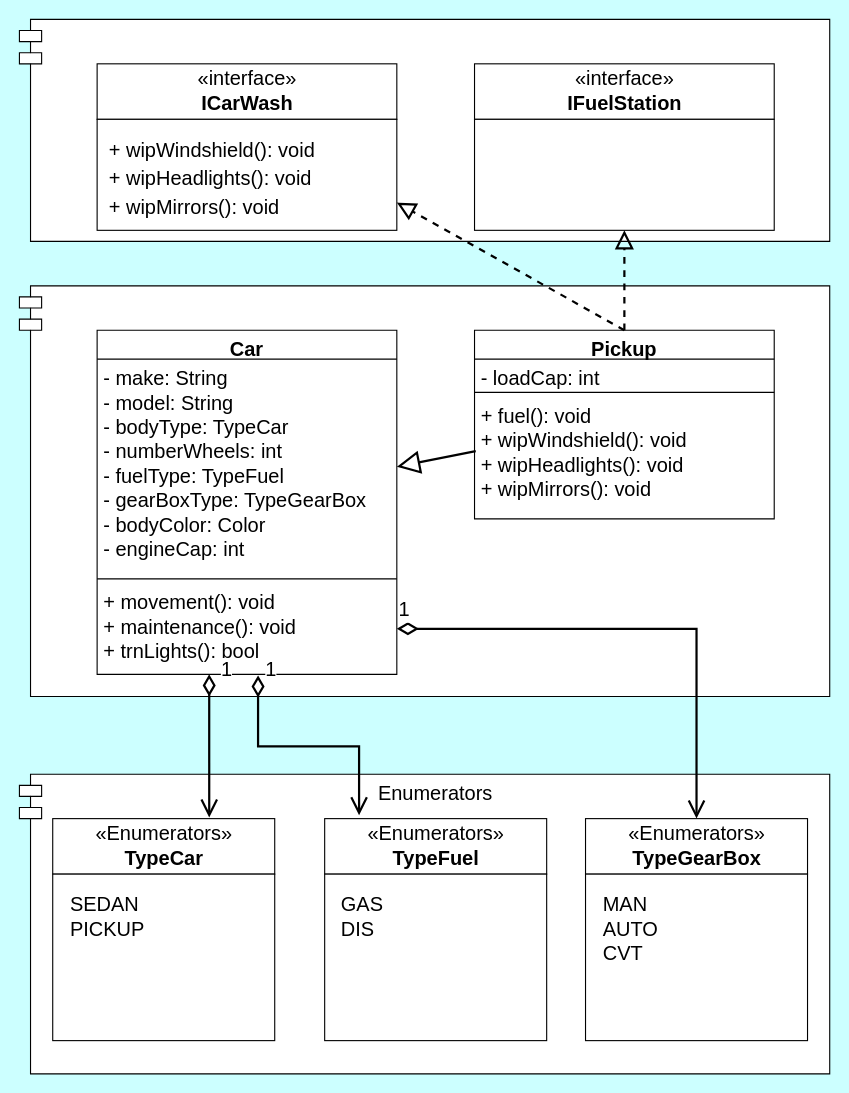
Some shapes in this 849 by 1093 pixel diagram are drawn without their labels. The box of each missing label's shape, as (x1, y1, x2, y2) in pixels:
+ fuel(): void: (473, 118, 774, 230)
Classes: (18, 285, 830, 697)
Interfaces: (18, 18, 830, 241)
